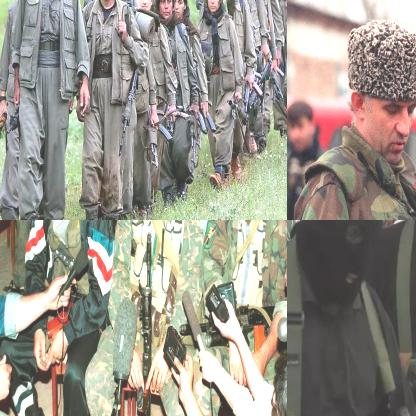rifle: (178, 299, 286, 368), (133, 232, 158, 415), (116, 64, 141, 158), (144, 100, 171, 173), (255, 52, 284, 90), (185, 108, 202, 167)
